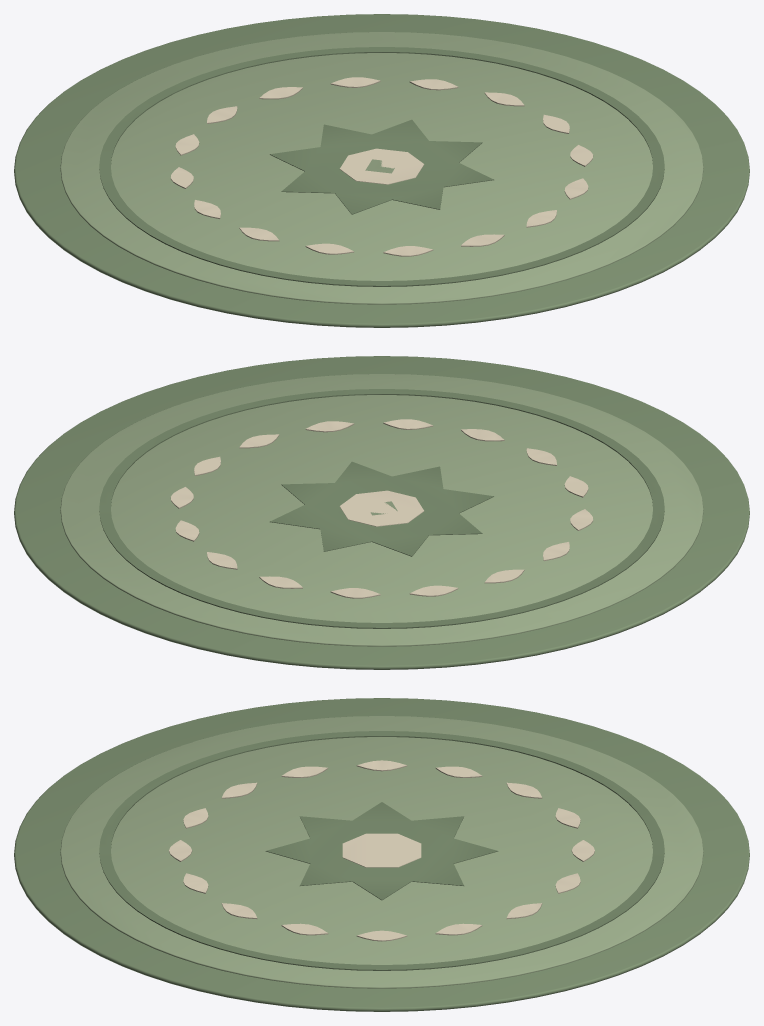
Rendered from rugRound.glb.
The picture shows the model from 3 angles, top to bottom: view 1: azimuth 30°, elevation 25°; view 2: azimuth 150°, elevation 25°; view 3: azimuth 270°, elevation 25°; orthographic projection.
Visible parts, largest first — view 1: rugRound; view 2: rugRound; view 3: rugRound.
Part boxes in pixels (x1,y1,x2,y2): rugRound: (14, 14, 749, 327); rugRound: (14, 356, 749, 669); rugRound: (14, 698, 749, 1011).
Bounding box in the file's own units: 1.9 × 0.019 × 1.9.
